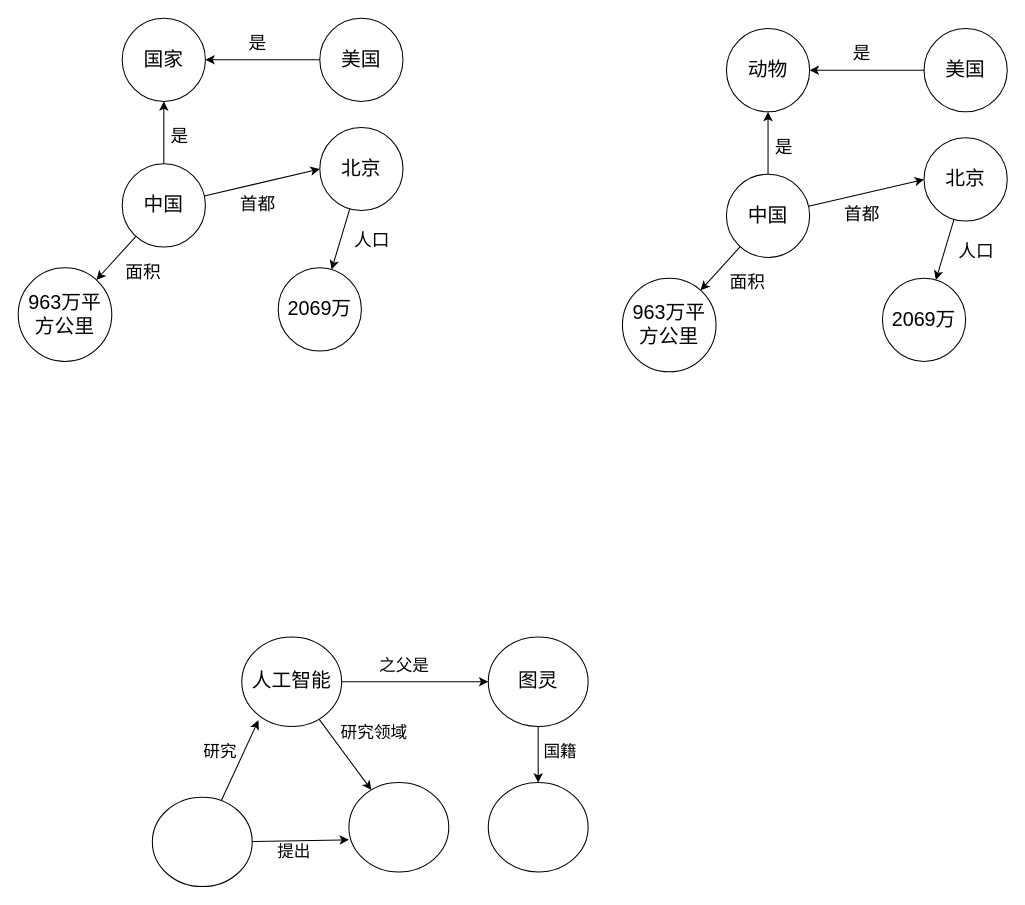
Image size: 1025x905. Some labels were removed from this diagram. The shapes that lost their labels are listed below. From the top down, each one's centre as x and y in pixels, then its label:
pixel 201 841: 谷歌
pixel 398 827: 知识图谱
pixel 537 827: 英国
